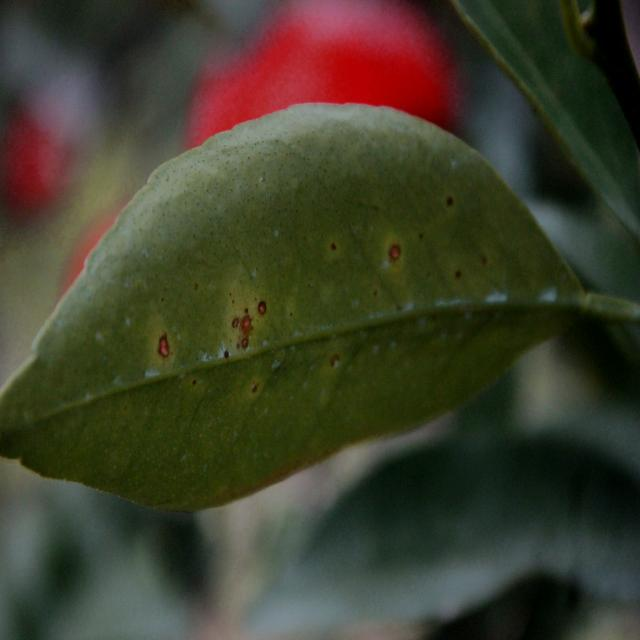canker: (119, 175, 521, 423)
